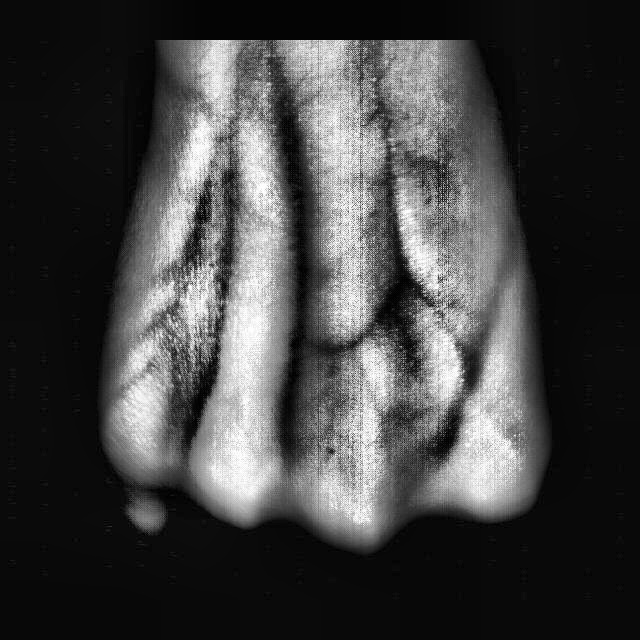Vein: (273, 118, 314, 321)
